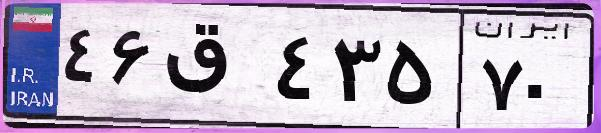0: (525, 38, 570, 115)
3: (330, 28, 385, 110)
4: (270, 28, 330, 110), (57, 26, 110, 100)
5: (385, 28, 445, 110)
6: (110, 28, 158, 98)
7: (475, 38, 525, 113)
ق: (158, 20, 270, 120)
